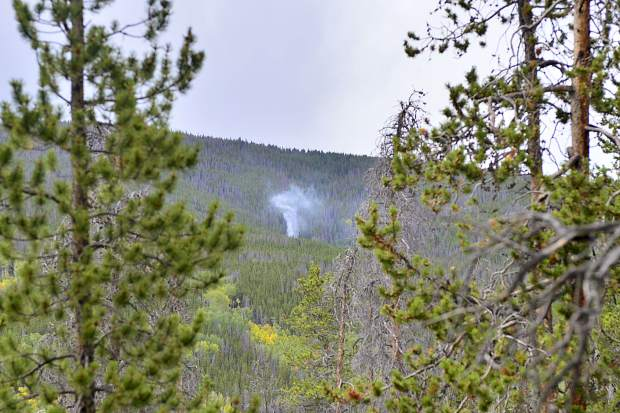fire: (261, 179, 333, 250)
